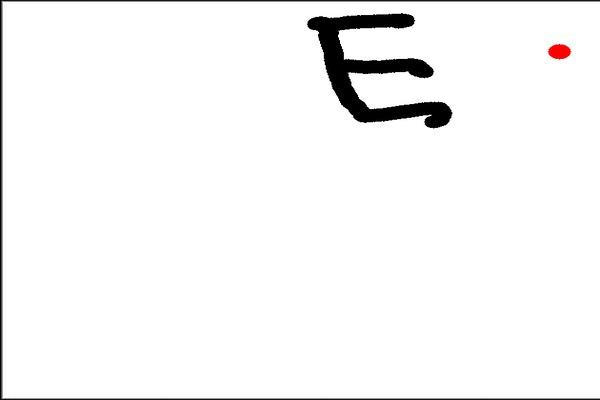E: (303, 8, 458, 133)
